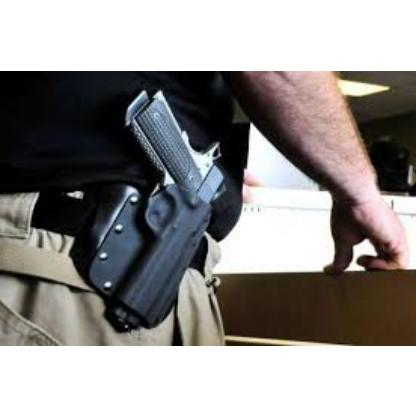gun: (87, 87, 242, 329)
